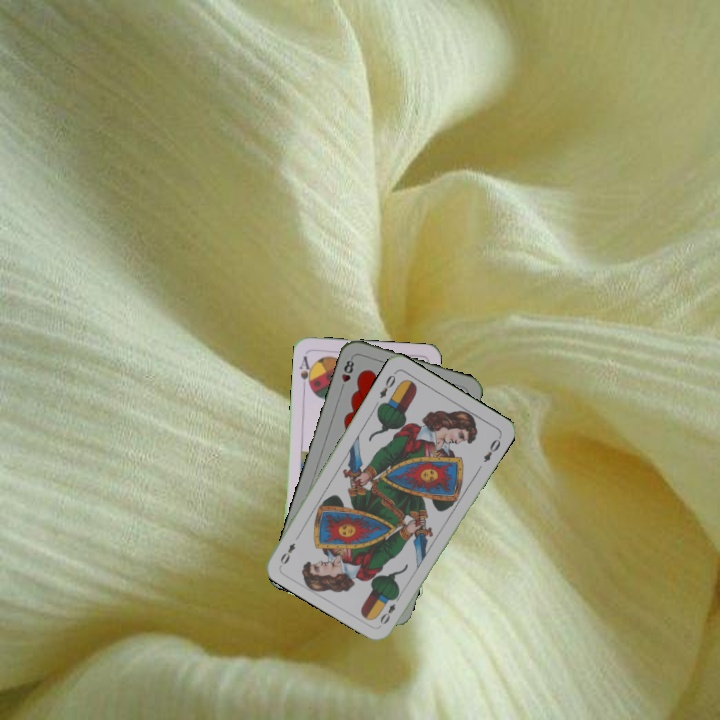EO: (376, 591, 403, 627), (375, 368, 399, 401)
H8: (337, 354, 357, 393)
SA: (295, 352, 315, 392)
